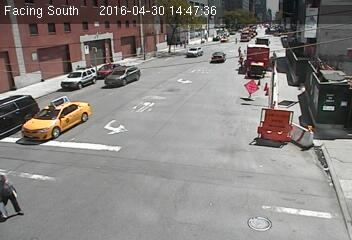neg: (180, 121, 224, 179), (129, 99, 165, 148), (29, 95, 60, 137), (233, 84, 260, 120), (61, 90, 81, 117), (105, 61, 120, 80), (116, 195, 129, 213)
pos: (268, 49, 281, 66), (238, 54, 248, 68), (236, 45, 244, 56), (233, 36, 240, 45)
